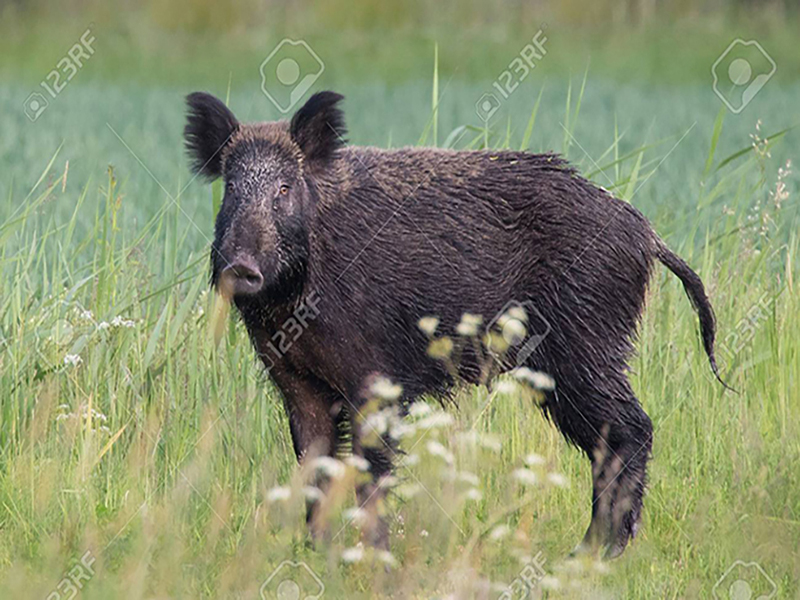cervo: (183, 89, 725, 556)
